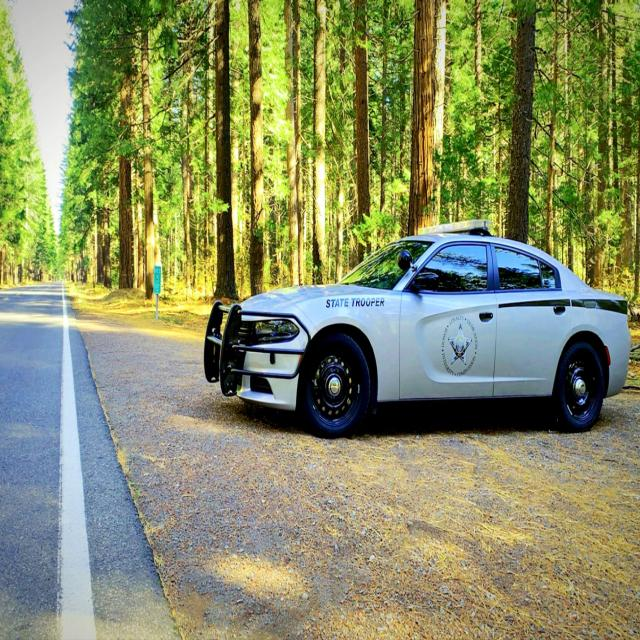cop: (201, 218, 640, 440)
